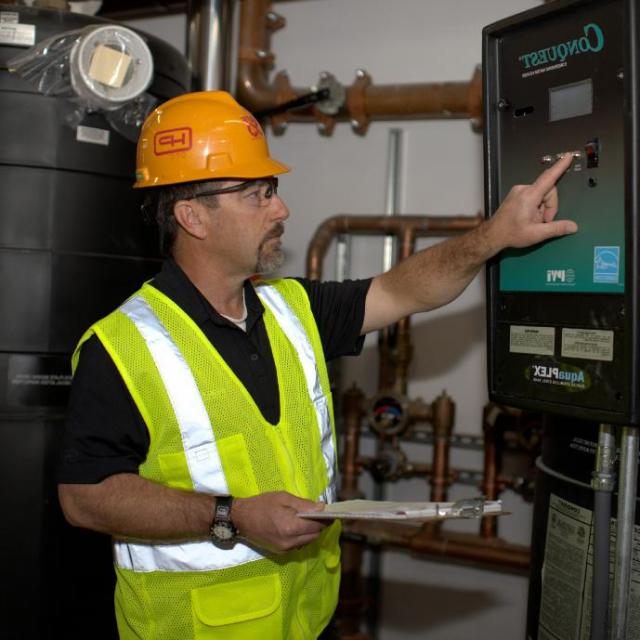Reflective-Jacket: (70, 268, 350, 637)
Safety-Helmet: (127, 85, 296, 198)
